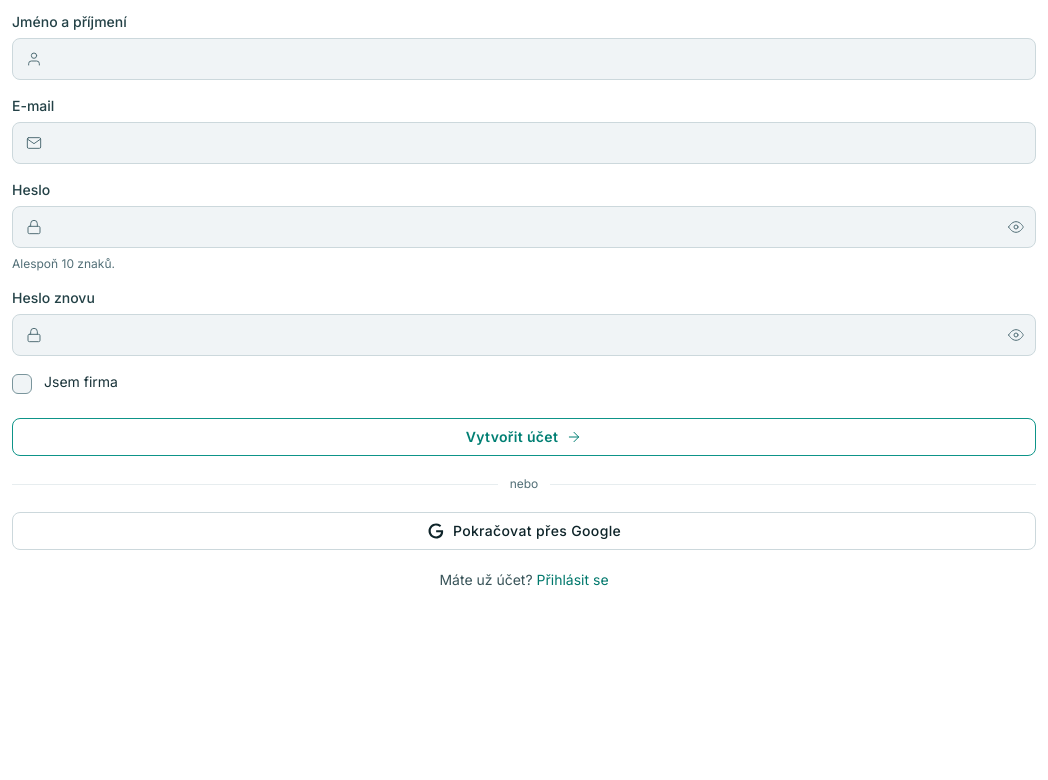
Scenario: RegisterForm — password confirm + reveal › blocks submit when the confirm is left empty
Type "Anna Nováková" into the field labelled "Jméno a příjmení" at (524, 59), box [12,38,1036,80]
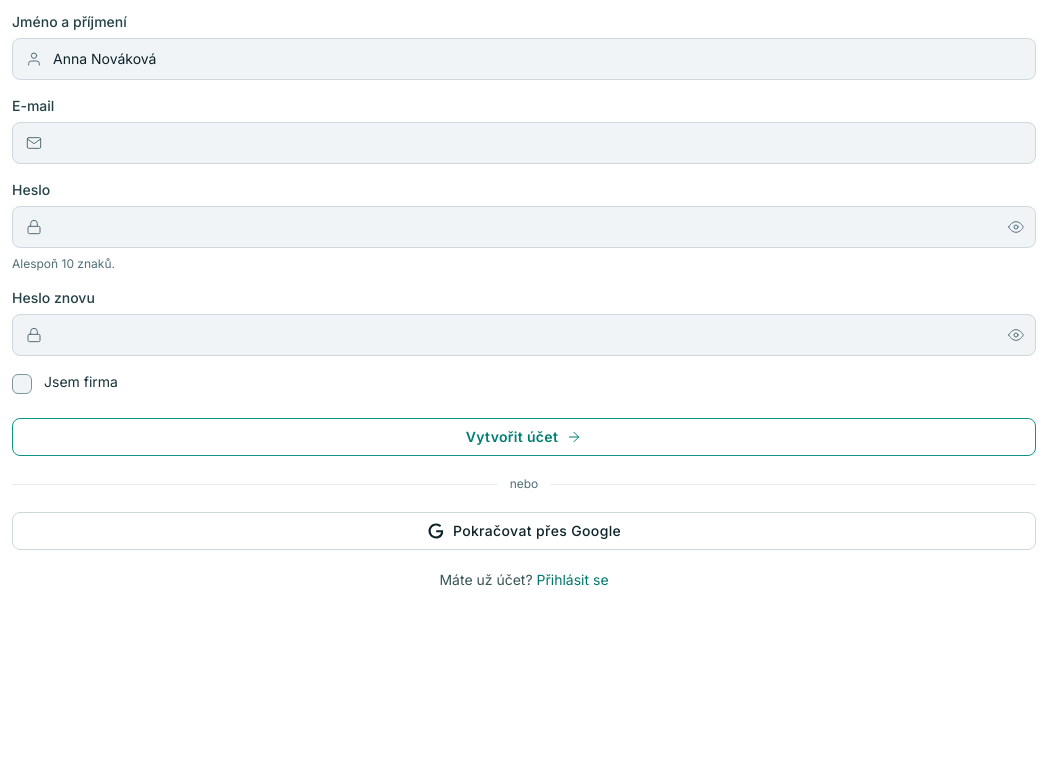
Type "anna@example.cz" into the field labelled "E-mail" at (524, 143), box [12,122,1036,164]
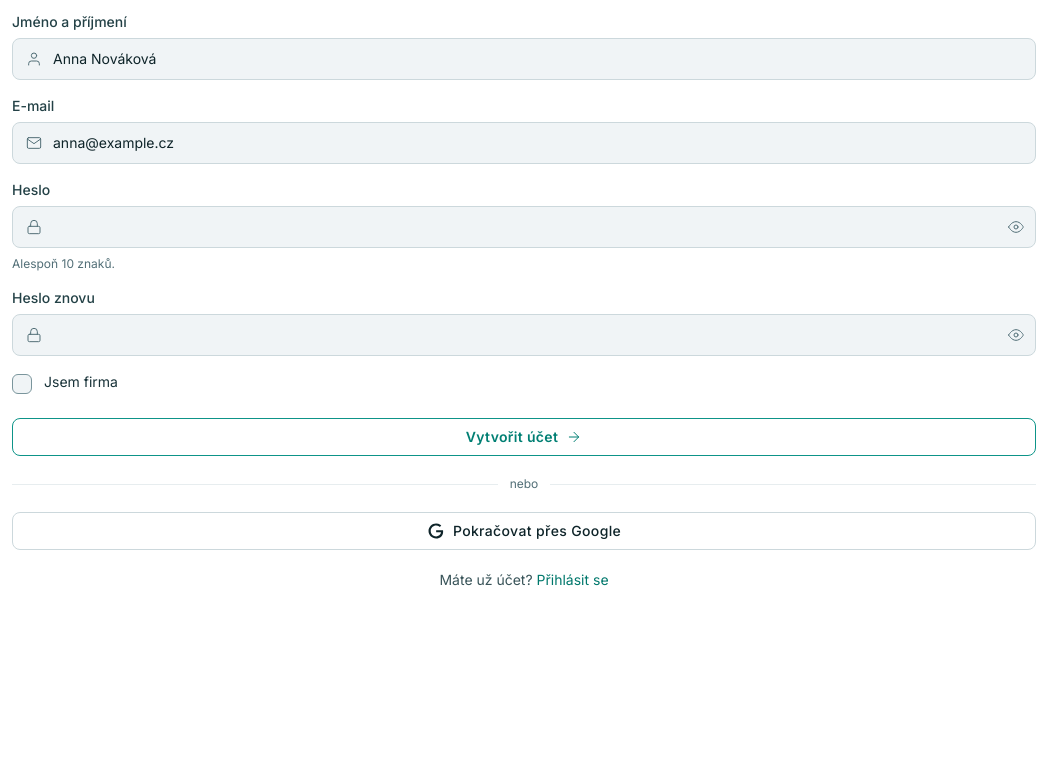
Type "abcd1234567" into the password field labelled "Heslo" at (524, 227), box [12,206,1036,248]
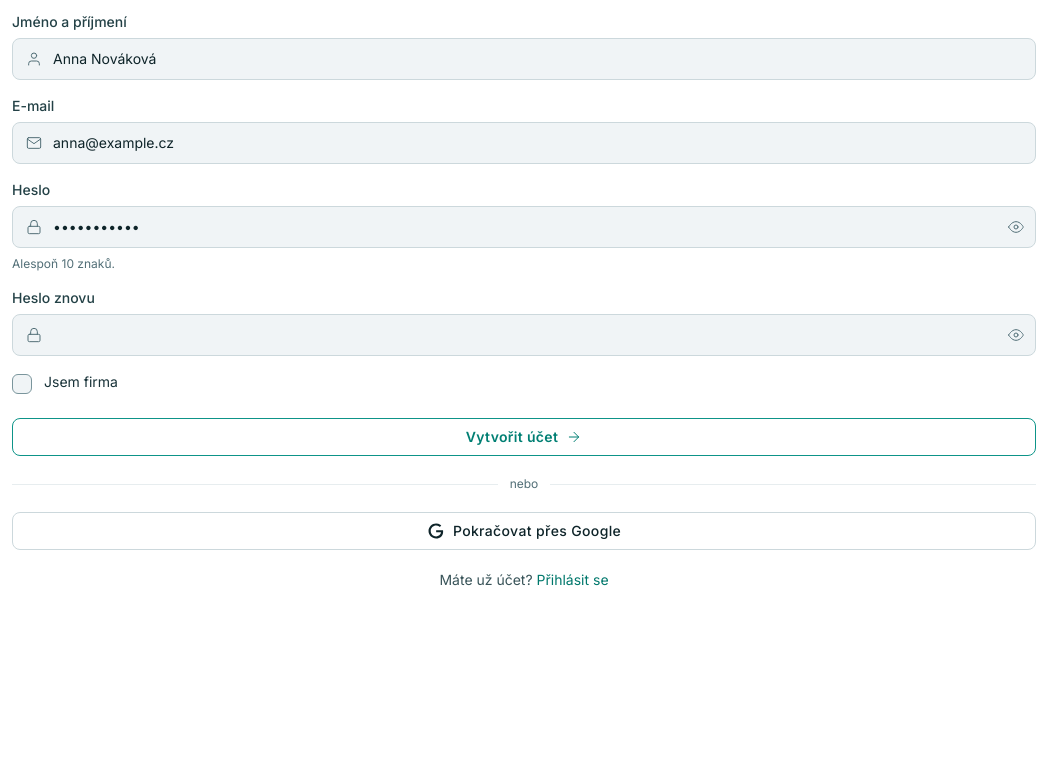
Click the button "Vytvořit účet" at (524, 437), box [12,418,1036,456]
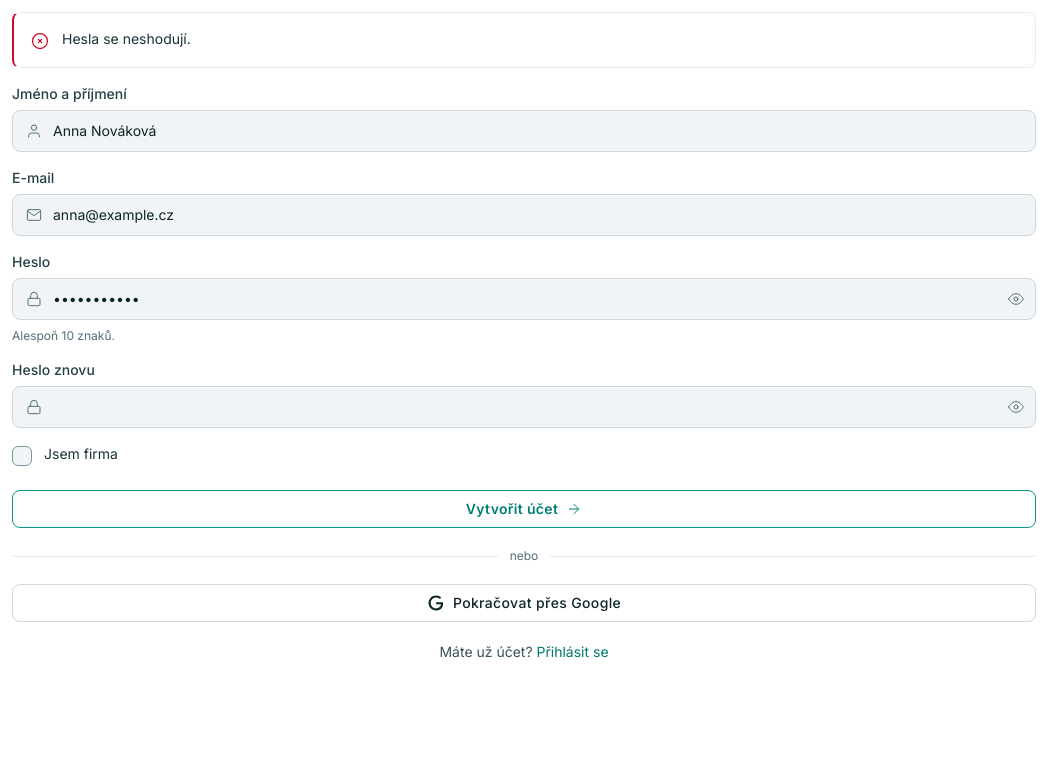
Result: the text "Hesla se neshodují." is shown at [62,29,191,49]
